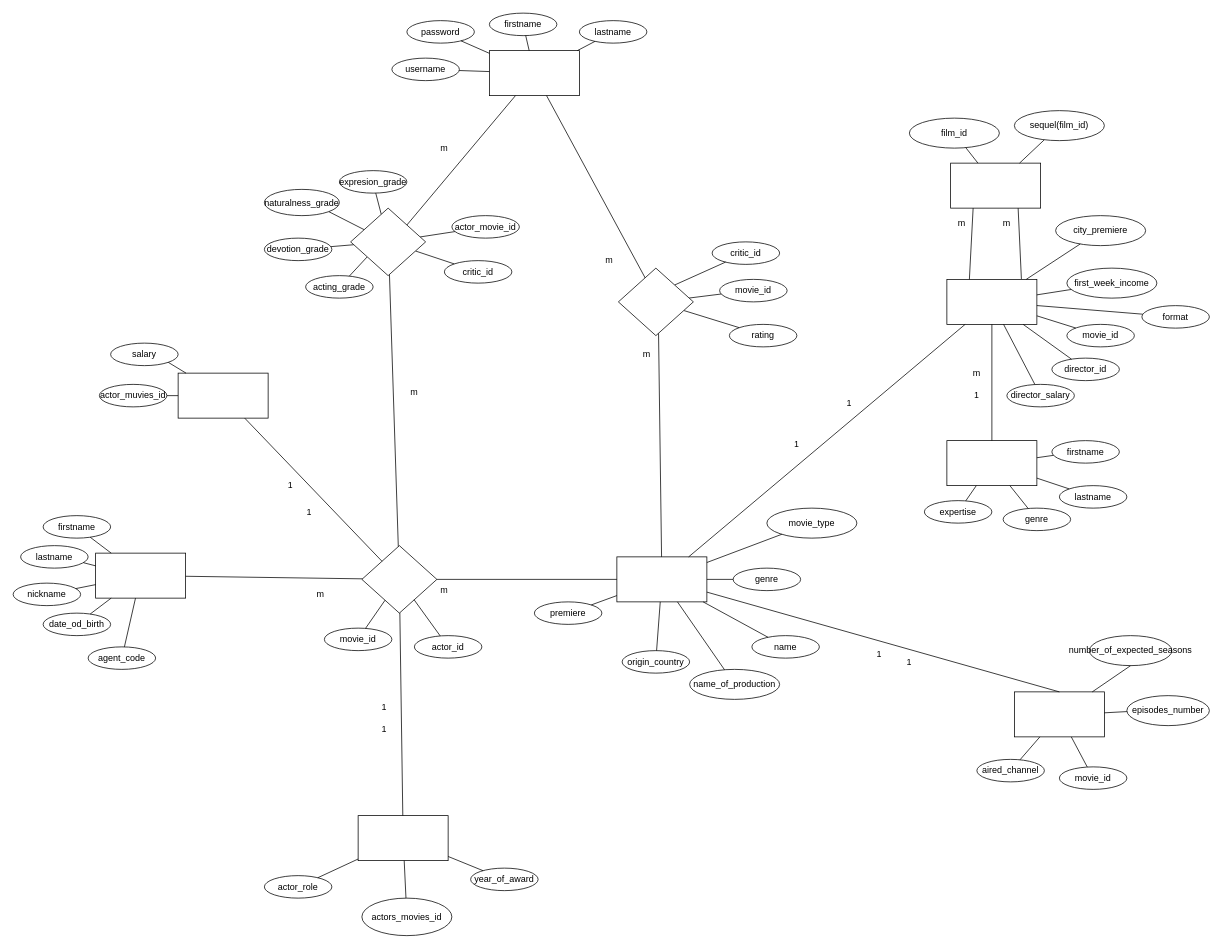
This 1223x949 diagram has some shape labels left out. The box of each missing label's shape, as (x1, y1, x2, y2) in pixels:
actors: (95, 552, 186, 598)
actors_critics: (350, 207, 426, 276)
actors_movies: (361, 545, 437, 613)
actors_salary: (177, 372, 268, 418)
critics: (489, 50, 579, 96)
directors: (946, 440, 1037, 486)
films: (946, 279, 1037, 324)
movies: (616, 556, 707, 602)
movies_critics: (618, 267, 693, 336)
oscars: (357, 815, 448, 861)
sequels: (950, 162, 1041, 208)
tv_series: (1014, 691, 1104, 737)
